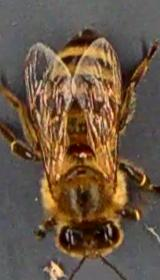varroa_mite: (60, 136, 96, 162)
